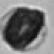correct: (0, 4, 50, 52)
